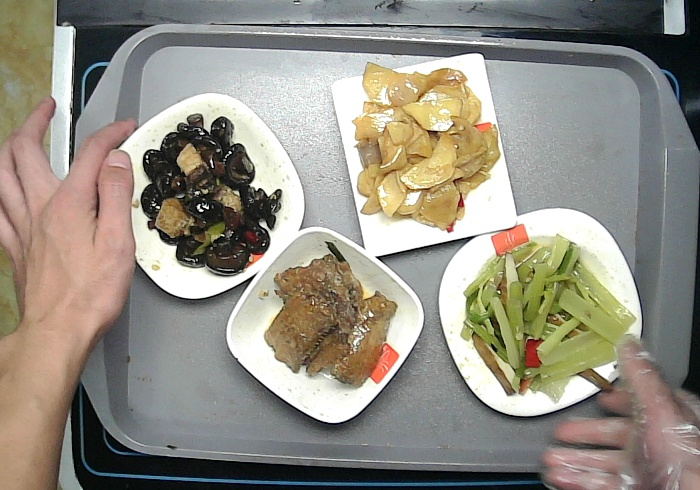SHKJ-Bai_Se_Cai_Die: (100, 93, 306, 297)
SHKJ-Bai_Se_Si_Fang_Cai_Die: (438, 207, 644, 417)
SHKJ-Bai_Se_Xiao_Fang_Die: (226, 225, 424, 423)
SHKJ-Si_Fang_Min: (331, 52, 519, 257)
